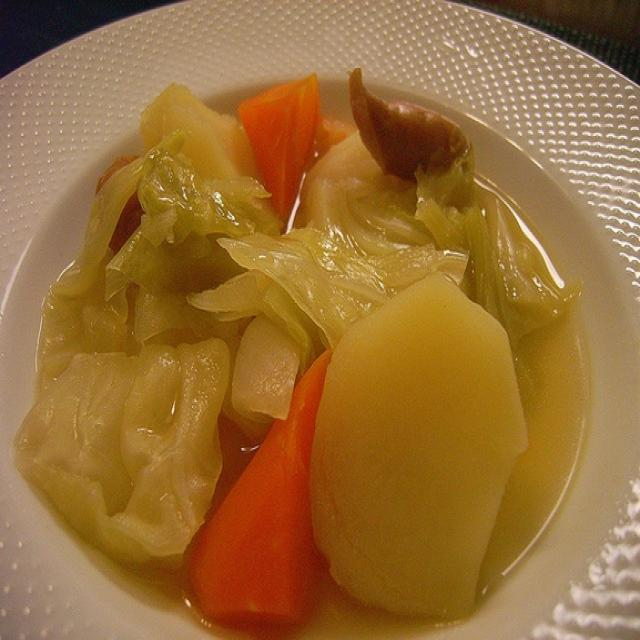汤锅炖物: (13, 47, 611, 624)
